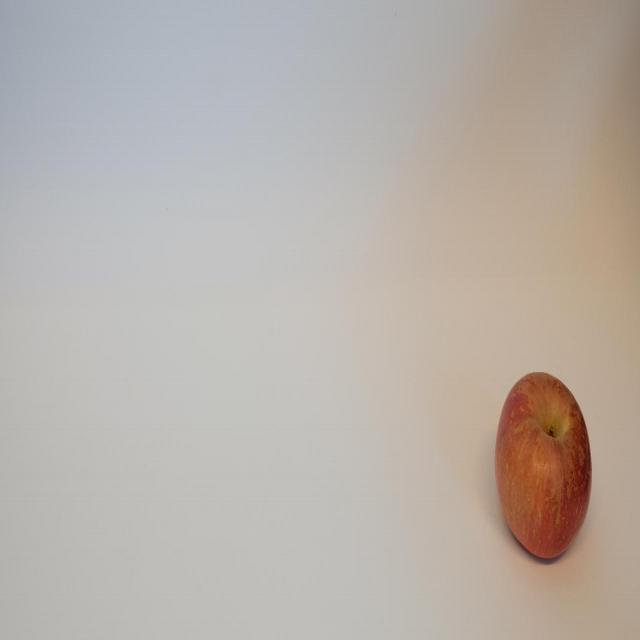apple: (494, 371, 593, 563)
